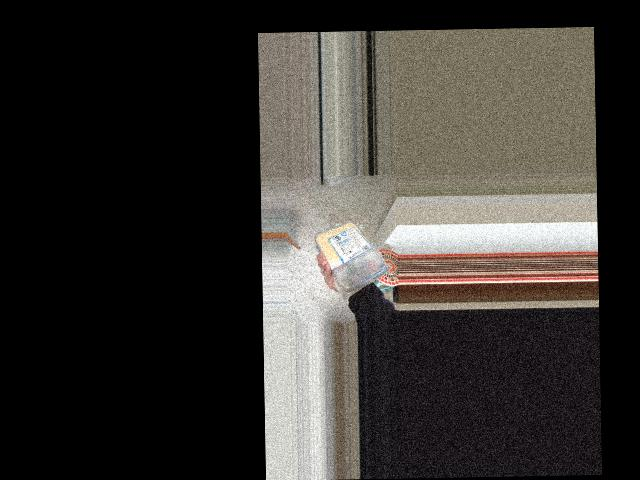cheese: (324, 218, 387, 288)
